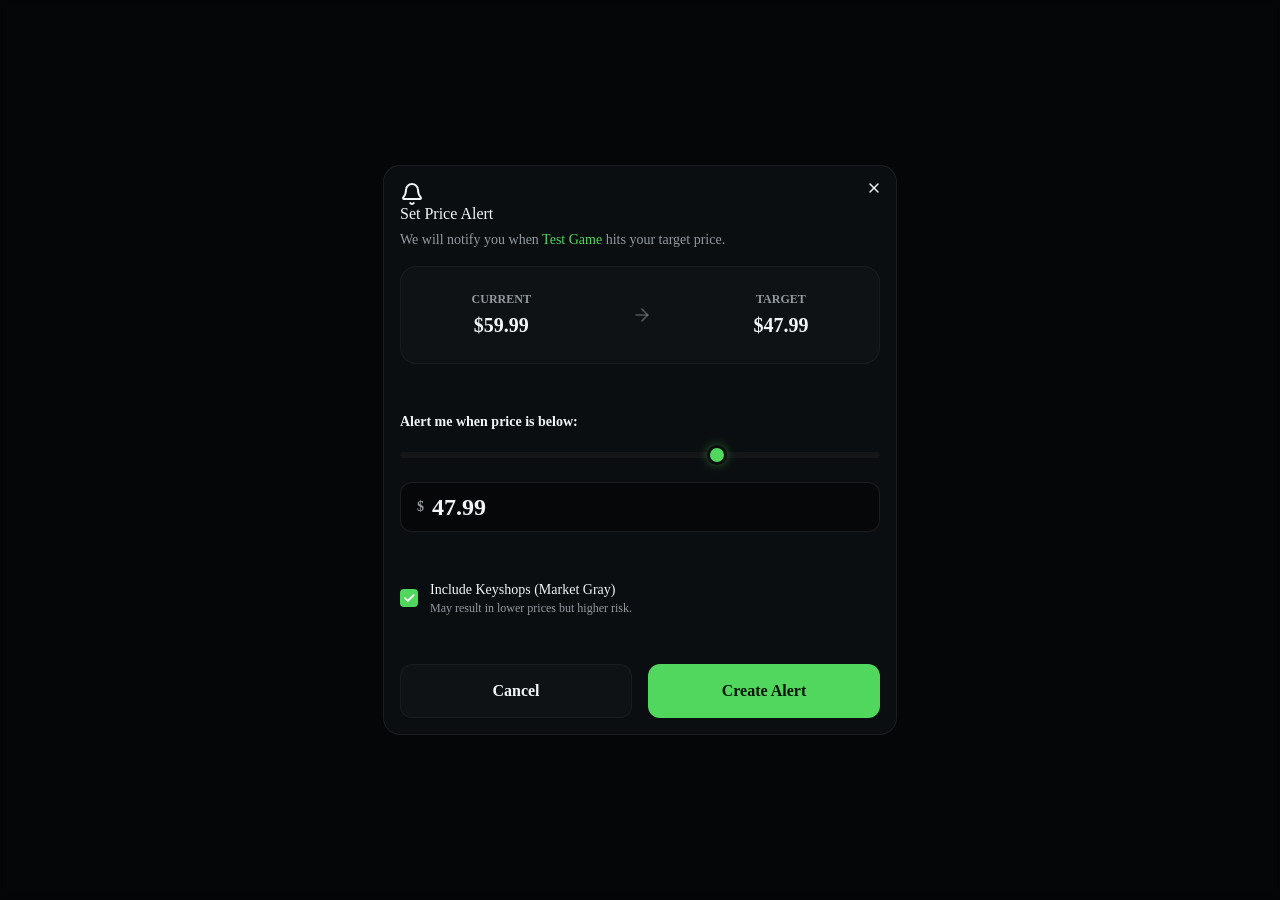
Test case: PriceAlertModal › dismisses error when Dismiss button is clicked
This screenshot has width=1280, height=900.
Click the button "Create Alert": point(764, 691) [648, 664, 880, 718]
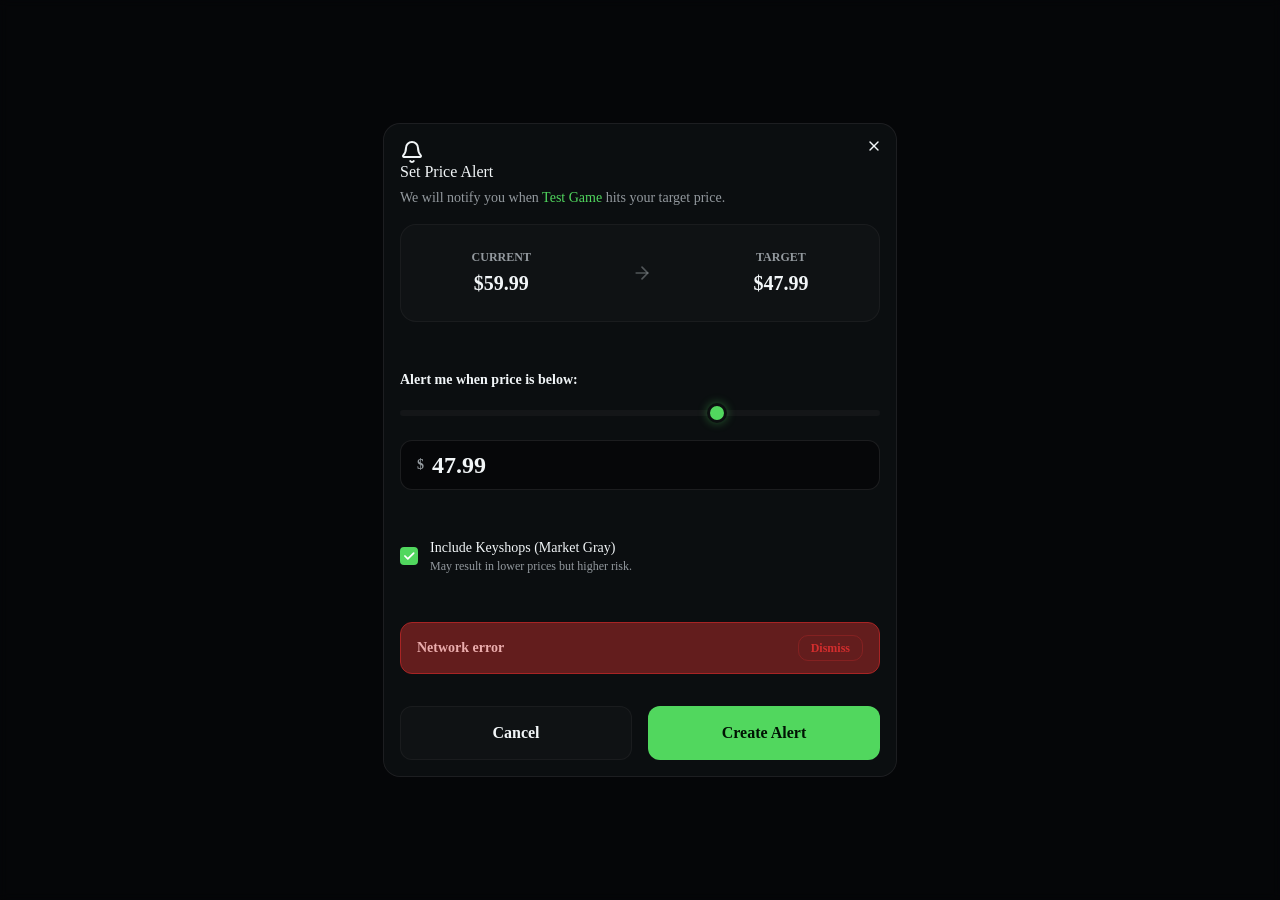
Expected: the text "Network error" is shown, [417, 638, 504, 658]
Click the button "Dismiss": point(830, 648) [798, 635, 863, 661]
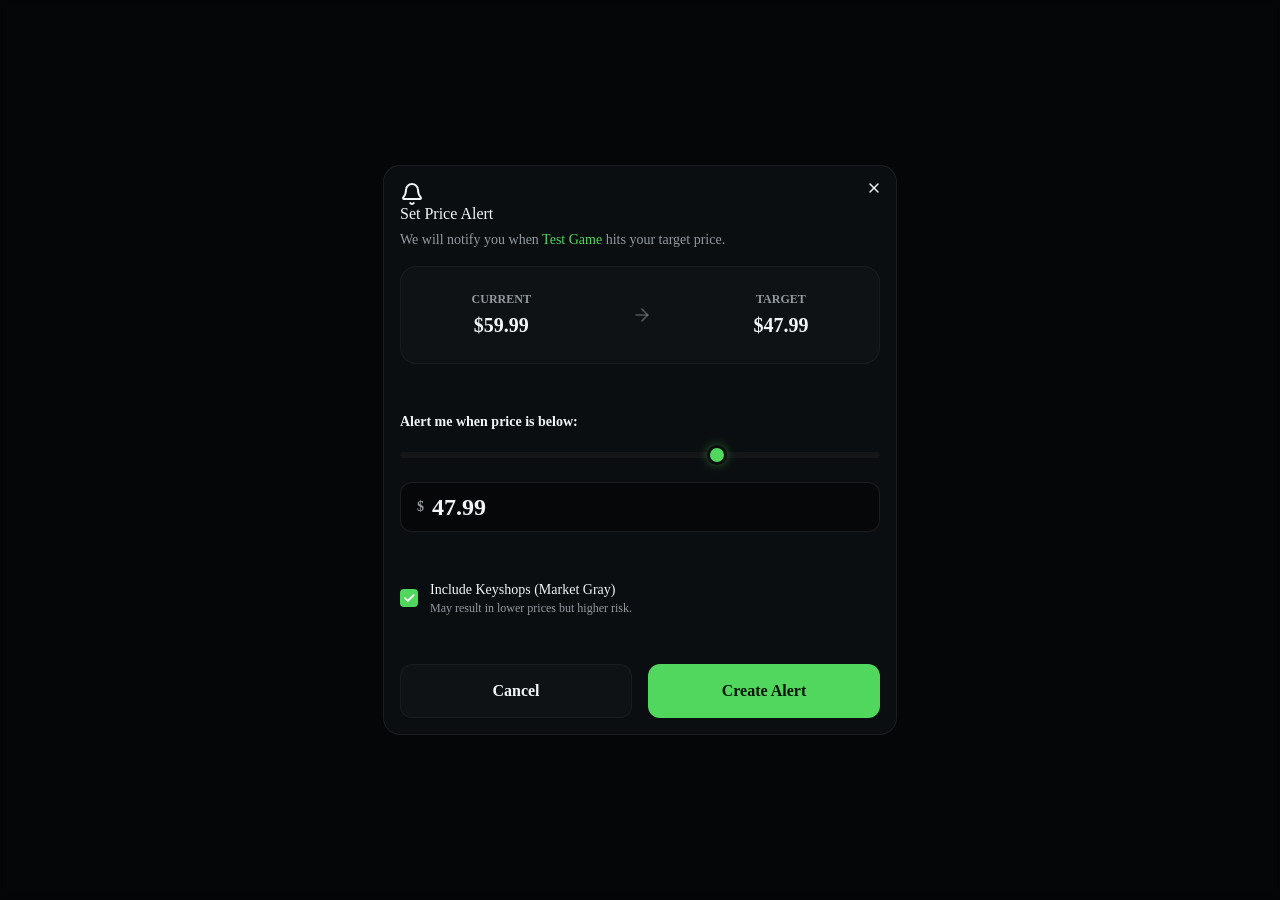
Expected: the text "Network error" is gone
